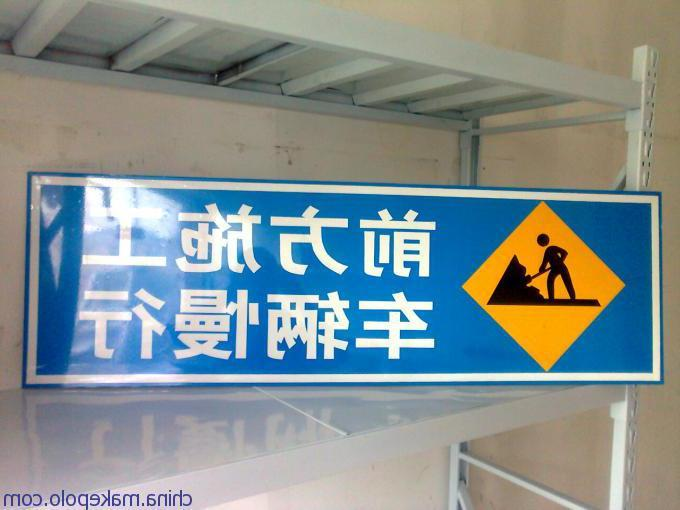sign: (22, 171, 667, 387)
